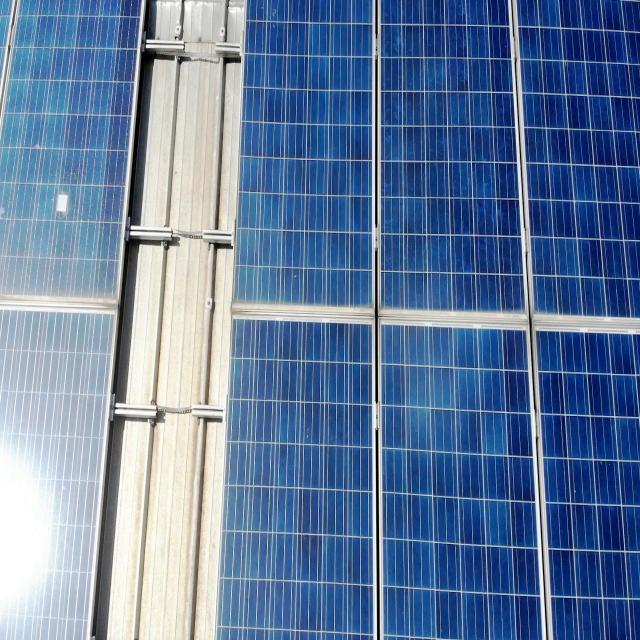faulty: (0, 7, 145, 301)
no faulty: (374, 320, 541, 640), (214, 320, 380, 640), (376, 4, 532, 324), (230, 1, 374, 310), (516, 0, 640, 322), (544, 333, 638, 640)
